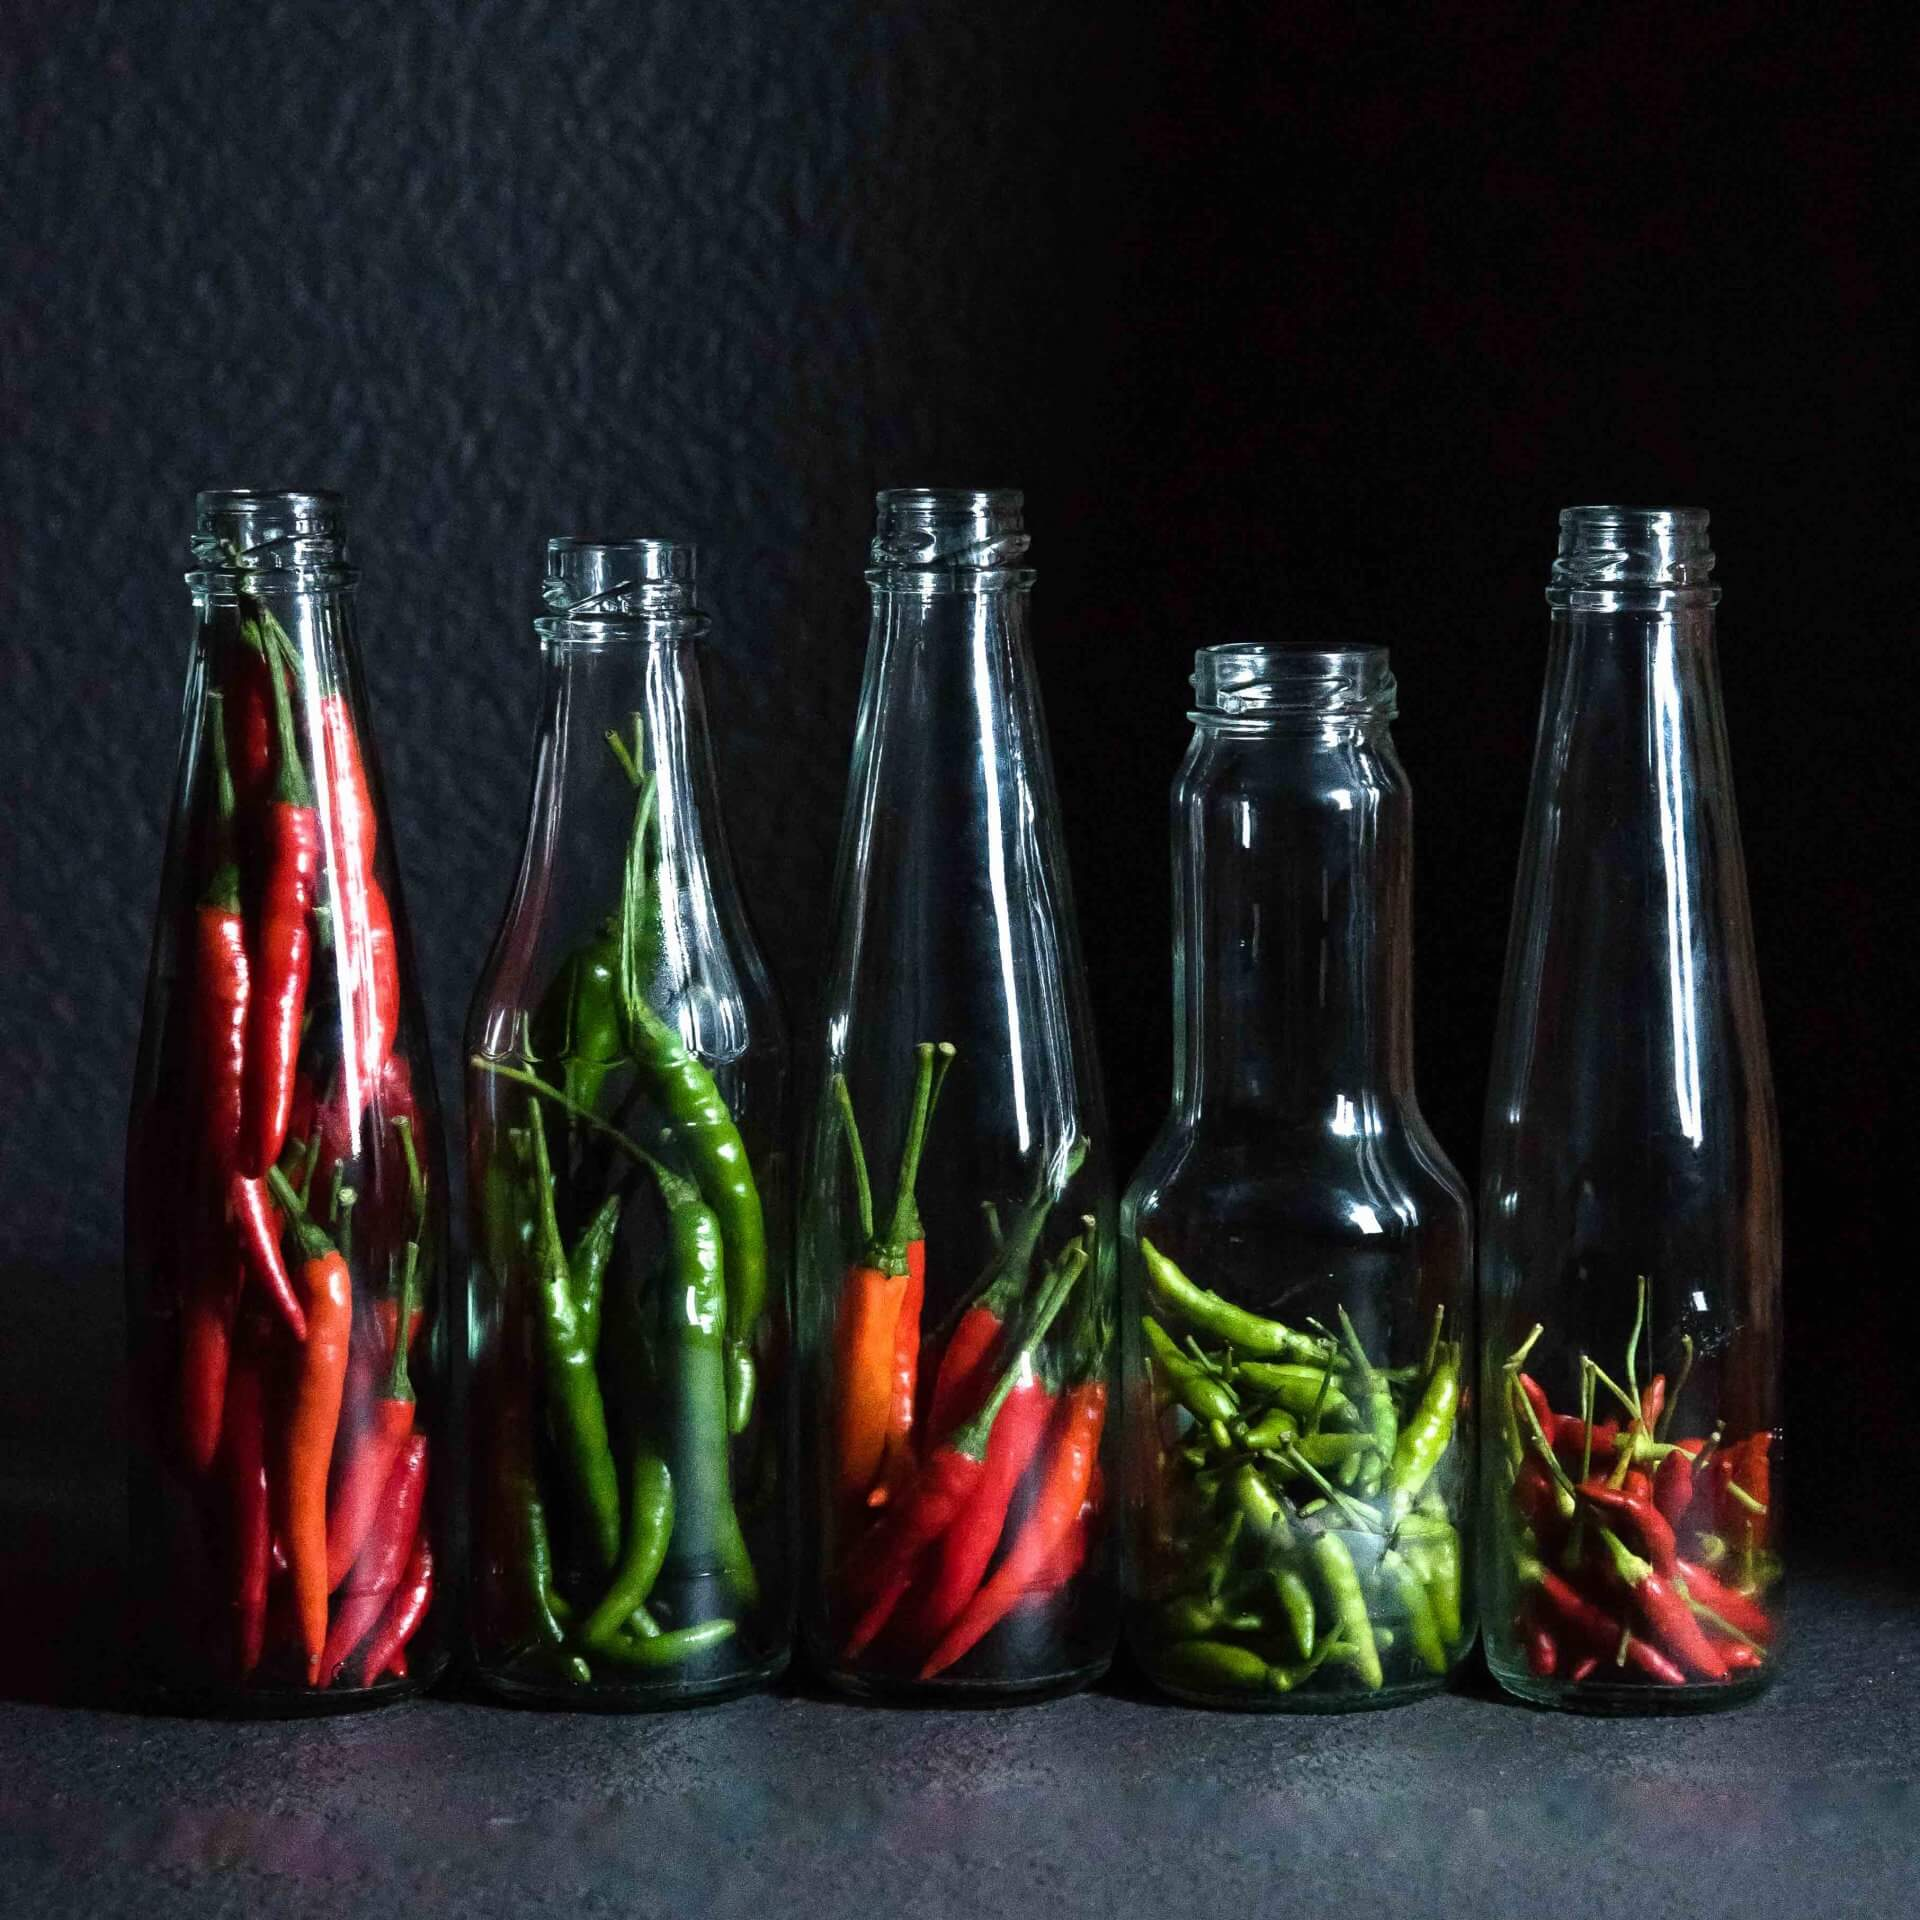glass_bottle: (104, 440, 450, 1742), (809, 461, 1122, 1741), (1487, 464, 1799, 1751), (466, 508, 788, 1742), (1131, 614, 1473, 1744)
